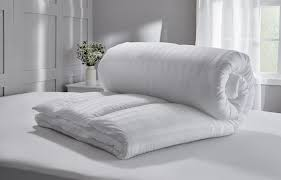bed-matress: (1, 88, 281, 180)
